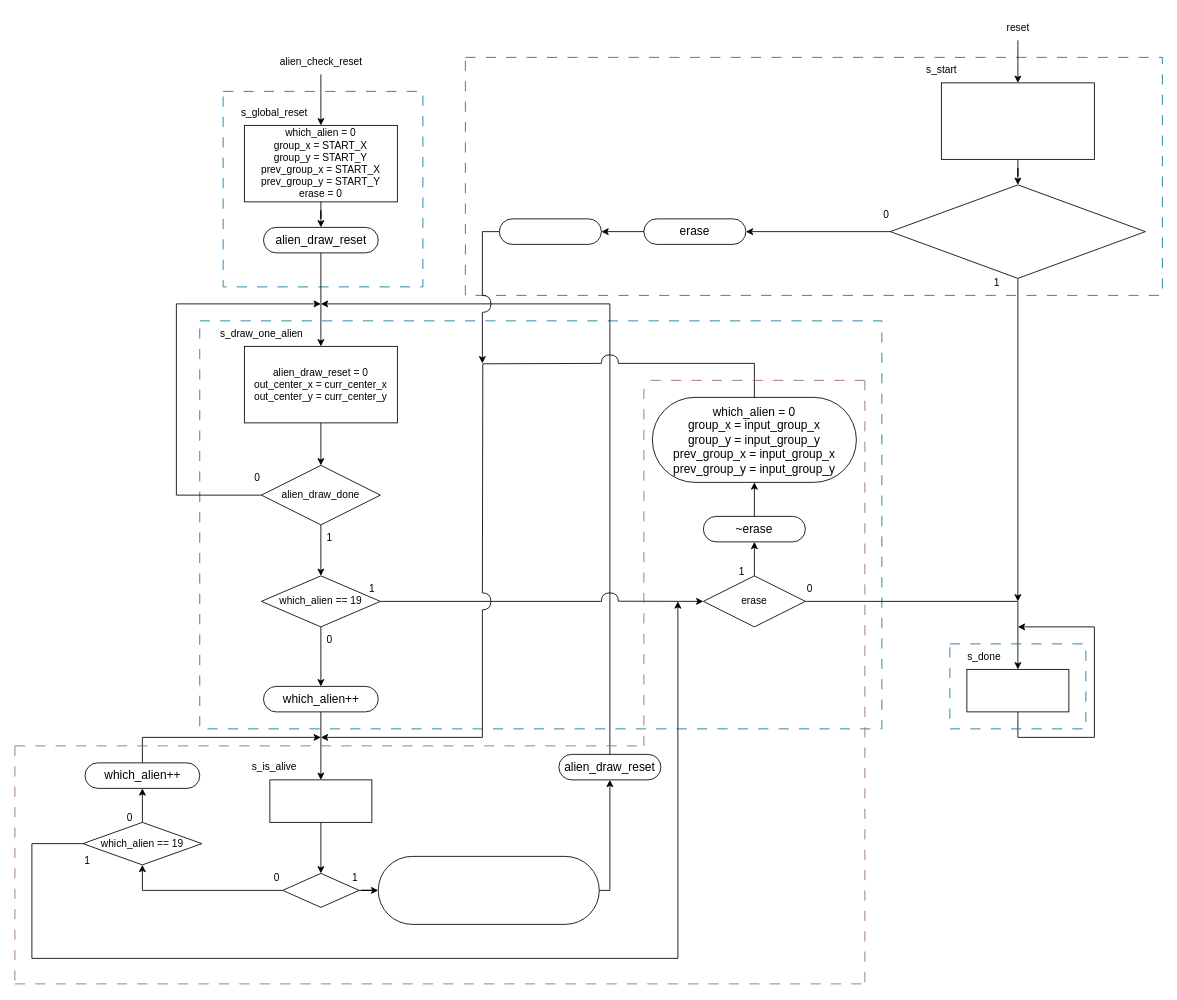
Image size: 1177x1000. Some labels were removed from this diagram. Each missing label, with the box of its shape:
alien_alive: (282, 873, 359, 907)
curr_center_x = ALIEN_X(which_alien) curr_center_y = ALIEN_Y(which_alien): (377, 856, 599, 924)
done: (966, 669, 1069, 712)
group_x = input_group_x group_y = input_group_y: (941, 82, 1094, 159)
prev_group_x == input_group_x && prev_group_y == input_group_y: (890, 184, 1145, 278)
which_alien = 0: (499, 218, 601, 244)
